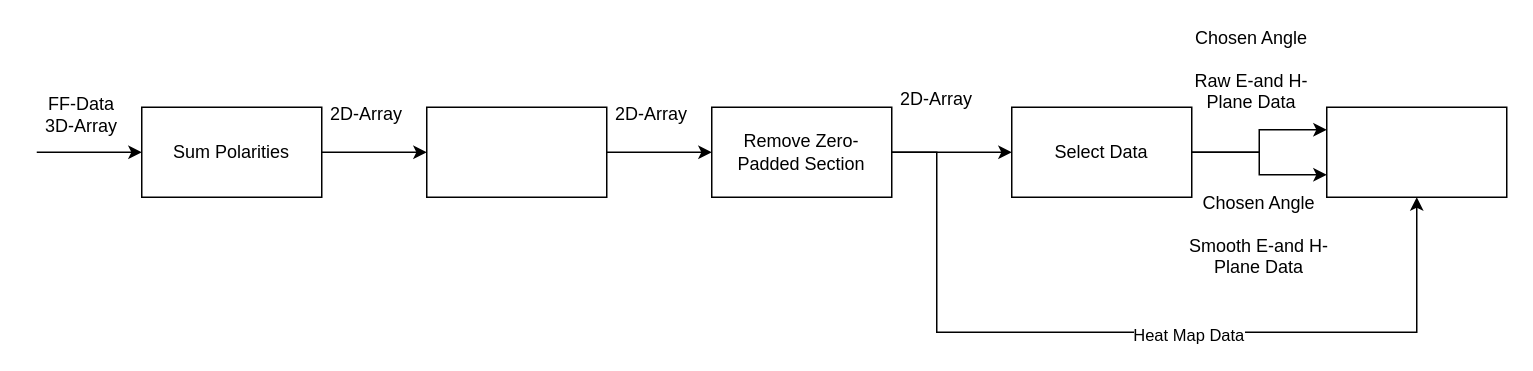
Some shapes in this 1533 by 371 pixel diagram are drawn without their labels. Each missing label, with the centre of its shape:
"Normalize Data" goes at (x=516, y=151).
"Plot Data" goes at (x=1416, y=151).
